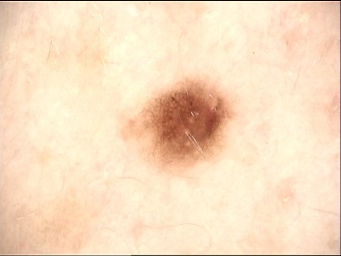nevus: (145, 87, 228, 157)
